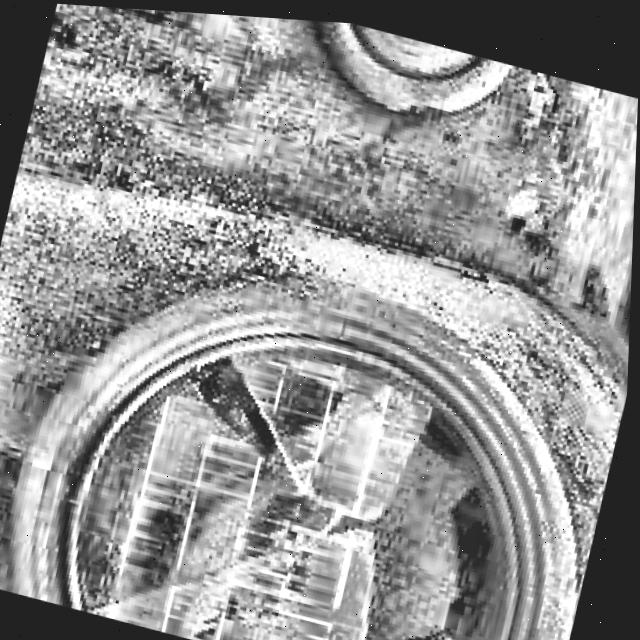head_lamp: (103, 334, 544, 640)
